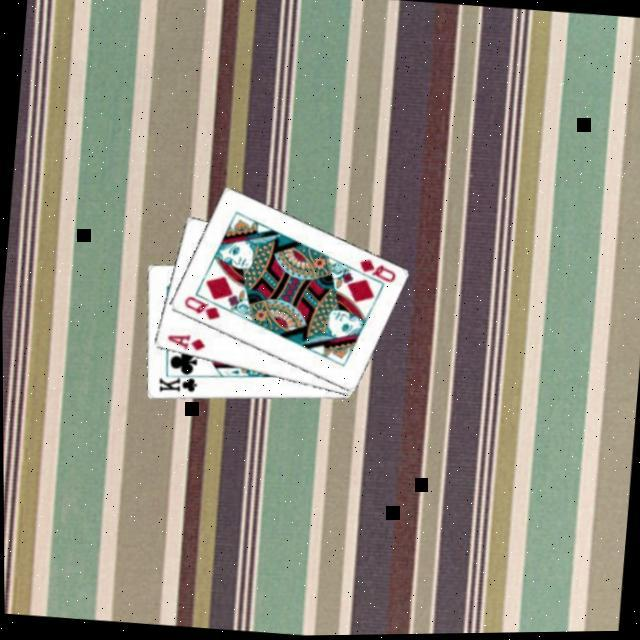AD: (163, 332, 209, 357)
KC: (156, 370, 204, 401)
QD: (180, 294, 224, 327), (356, 257, 400, 289)
